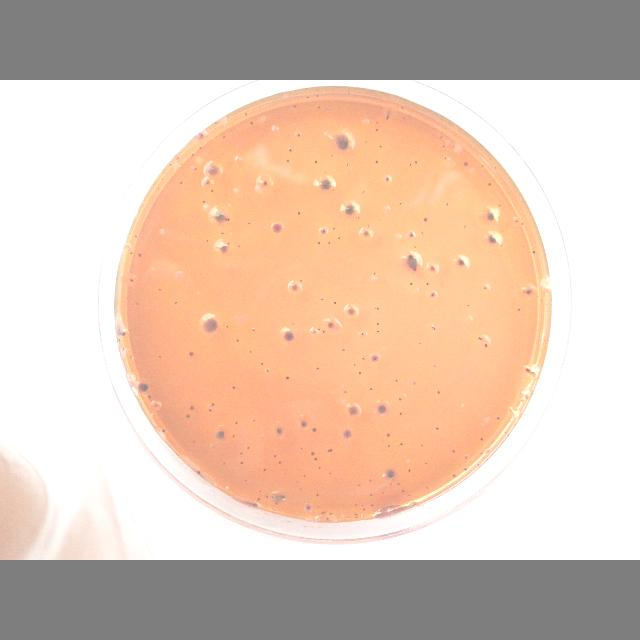colony: (336, 132, 352, 154), (201, 316, 219, 334), (486, 232, 500, 246), (485, 208, 497, 224), (215, 210, 228, 224), (376, 402, 388, 416), (347, 404, 359, 418), (282, 330, 296, 342), (406, 254, 418, 268), (344, 202, 356, 216), (320, 178, 332, 192), (138, 381, 150, 394), (342, 428, 354, 440), (272, 222, 284, 234), (208, 166, 220, 177), (218, 242, 228, 255), (386, 468, 396, 479), (215, 430, 225, 440), (370, 353, 380, 363), (290, 282, 300, 292), (276, 493, 288, 501), (304, 503, 312, 513), (118, 330, 128, 338), (457, 258, 467, 266), (275, 426, 283, 434), (300, 420, 308, 428), (362, 230, 370, 238), (320, 228, 328, 235), (188, 350, 194, 358), (526, 288, 532, 296), (525, 366, 531, 374), (327, 322, 335, 328), (408, 232, 416, 238), (430, 264, 436, 272), (185, 413, 191, 419), (273, 500, 279, 506), (312, 427, 318, 433), (310, 450, 316, 456), (430, 292, 436, 298), (262, 180, 268, 186), (153, 402, 159, 408), (158, 354, 162, 360), (148, 394, 152, 400), (190, 405, 194, 411), (162, 428, 166, 434), (257, 496, 261, 502), (316, 492, 320, 498), (314, 456, 318, 462), (130, 277, 134, 283), (138, 252, 142, 258), (250, 120, 254, 126), (297, 132, 301, 138), (386, 115, 390, 121), (525, 394, 529, 400), (520, 398, 524, 404), (358, 370, 362, 376), (413, 380, 417, 386), (398, 396, 402, 402), (386, 432, 390, 438), (312, 329, 316, 335), (484, 342, 488, 348), (413, 266, 417, 272), (386, 176, 390, 182), (205, 180, 211, 184), (222, 134, 225, 140), (235, 420, 238, 426), (192, 439, 196, 443), (231, 434, 235, 438), (197, 470, 201, 474), (240, 461, 244, 465), (239, 451, 243, 455), (318, 466, 322, 470), (122, 347, 126, 351), (135, 302, 139, 306), (158, 288, 162, 292), (174, 301, 178, 305), (134, 234, 138, 238), (202, 200, 206, 204), (179, 181, 183, 185), (199, 146, 203, 150), (288, 148, 292, 152), (316, 94, 320, 98), (306, 95, 310, 99), (375, 128, 379, 132), (402, 116, 406, 120), (442, 144, 446, 148), (464, 162, 468, 166), (488, 182, 492, 186), (522, 290, 526, 294), (452, 449, 456, 453), (362, 357, 366, 361), (394, 379, 398, 383), (399, 411, 403, 415), (208, 408, 212, 412), (252, 328, 256, 332), (260, 362, 264, 366), (286, 376, 290, 380), (316, 366, 320, 370), (322, 330, 326, 334), (320, 298, 324, 302), (478, 336, 482, 340), (423, 218, 427, 222), (408, 255, 412, 259), (409, 282, 413, 286), (362, 190, 366, 194), (398, 202, 402, 206), (332, 188, 336, 192), (414, 160, 418, 164), (152, 413, 156, 417), (324, 106, 328, 110), (326, 517, 329, 521), (130, 354, 132, 360), (130, 250, 132, 256), (210, 189, 213, 193), (195, 167, 198, 171), (177, 156, 180, 160), (200, 133, 203, 137), (245, 112, 248, 116), (294, 104, 296, 110), (401, 106, 404, 110), (448, 122, 452, 125), (532, 250, 536, 253), (496, 416, 499, 420), (245, 479, 248, 483), (252, 418, 255, 422), (237, 338, 240, 342), (300, 278, 302, 284), (376, 322, 379, 326), (376, 331, 380, 334), (421, 443, 424, 447), (426, 282, 429, 286), (247, 446, 250, 449), (223, 462, 225, 466), (264, 468, 266, 472), (266, 495, 268, 499), (356, 502, 358, 506), (354, 514, 358, 516), (370, 479, 372, 483), (358, 483, 360, 487), (328, 472, 332, 474), (304, 474, 306, 478), (278, 462, 282, 464), (274, 454, 276, 458), (232, 386, 236, 388), (119, 338, 121, 342), (318, 105, 320, 109), (376, 121, 378, 125), (445, 126, 447, 130), (444, 156, 446, 160), (521, 222, 523, 226), (518, 307, 520, 311), (540, 298, 542, 302), (544, 338, 546, 342), (465, 456, 467, 460), (464, 468, 468, 470), (453, 473, 455, 477), (408, 468, 410, 472), (424, 462, 428, 464), (390, 482, 392, 486), (370, 387, 372, 391), (344, 390, 346, 394), (330, 448, 332, 452), (299, 448, 303, 450), (296, 479, 298, 483), (300, 487, 302, 491), (212, 402, 214, 406), (226, 324, 228, 328), (250, 349, 252, 353), (266, 368, 268, 372), (318, 327, 320, 331), (334, 301, 336, 305), (377, 307, 379, 311), (362, 332, 364, 336), (434, 364, 436, 368), (438, 390, 440, 394), (436, 427, 438, 431), (400, 442, 402, 446), (388, 444, 390, 448), (484, 286, 486, 290), (446, 202, 448, 206), (374, 272, 376, 276), (228, 218, 230, 222), (298, 211, 300, 215), (286, 160, 290, 162), (315, 160, 317, 164), (331, 154, 333, 158), (365, 140, 367, 144), (380, 145, 382, 149), (376, 160, 378, 164), (410, 163, 412, 167), (126, 246, 130, 248), (231, 128, 233, 132), (452, 144, 454, 148), (490, 157, 492, 161), (324, 511, 326, 514), (382, 491, 384, 494), (215, 122, 217, 125), (482, 165, 484, 168), (495, 167, 497, 170), (481, 438, 484, 440), (426, 486, 428, 489), (338, 237, 340, 240), (238, 245, 240, 248), (367, 225, 369, 228), (160, 178, 163, 180), (181, 162, 183, 165), (272, 496, 274, 498), (259, 490, 261, 492), (322, 512, 324, 514), (330, 512, 332, 514), (363, 508, 365, 510), (362, 515, 364, 517), (371, 504, 373, 506), (370, 494, 372, 496), (402, 490, 404, 492), (398, 483, 400, 485), (170, 164, 172, 166), (192, 154, 194, 156), (440, 136, 442, 138), (516, 220, 518, 222), (500, 245, 502, 247), (514, 423, 516, 425), (509, 420, 511, 422), (505, 431, 507, 433), (481, 452, 483, 454), (477, 463, 479, 465), (354, 364, 356, 366), (328, 450, 330, 452), (374, 307, 376, 309), (431, 327, 433, 329), (419, 343, 421, 345), (408, 494, 410, 496), (482, 457, 484, 459), (499, 204, 501, 206), (421, 232, 423, 234), (414, 246, 416, 248), (467, 305, 469, 307), (328, 242, 330, 244), (318, 242, 320, 244), (333, 227, 335, 229), (228, 242, 230, 244), (222, 232, 224, 234), (207, 240, 209, 242), (248, 223, 250, 225), (347, 164, 349, 166), (358, 216, 360, 218), (325, 171, 327, 173), (349, 172, 351, 174), (464, 226, 466, 228), (158, 187, 160, 189), (522, 245, 524, 247), (508, 434, 509, 436), (434, 327, 434, 331)
